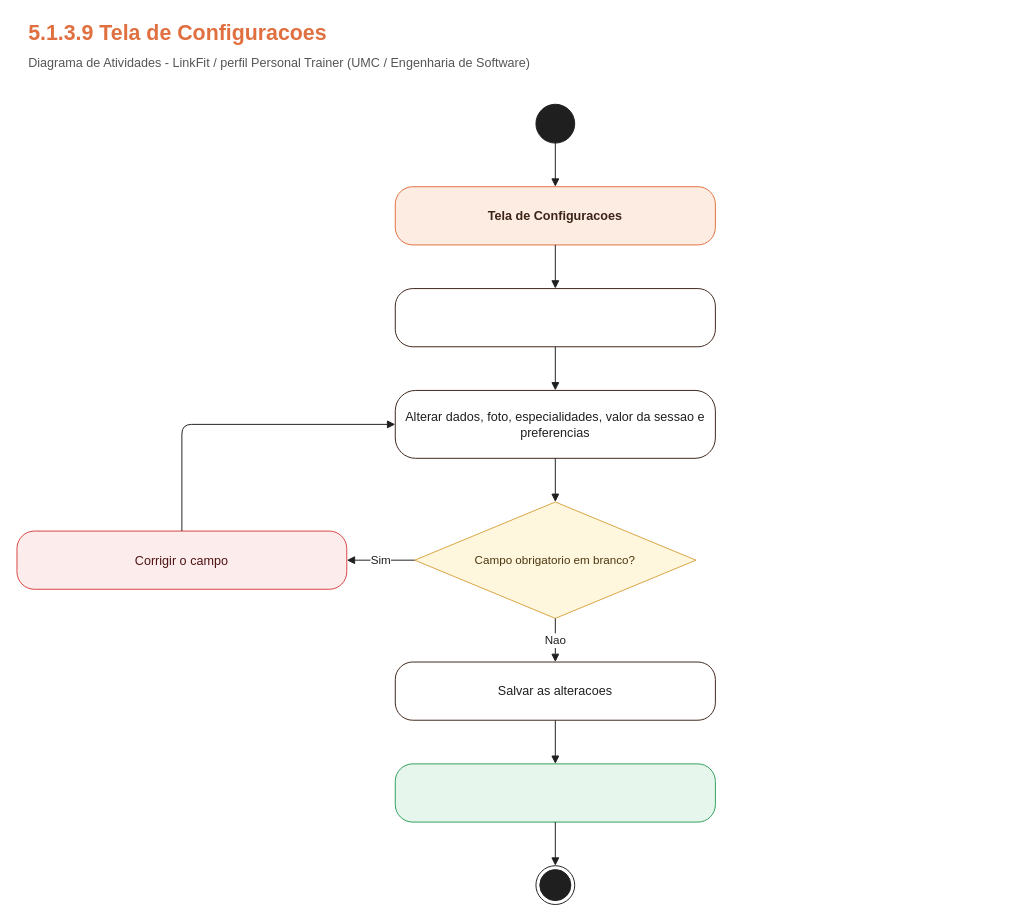
This 1014x922 diagram has some shape labels left out. The centre of each missing label's shape, as x and y in pixels:
Acionar 'Editar perfil': point (554, 317)
Perfil do personal atualizado: point (554, 792)
